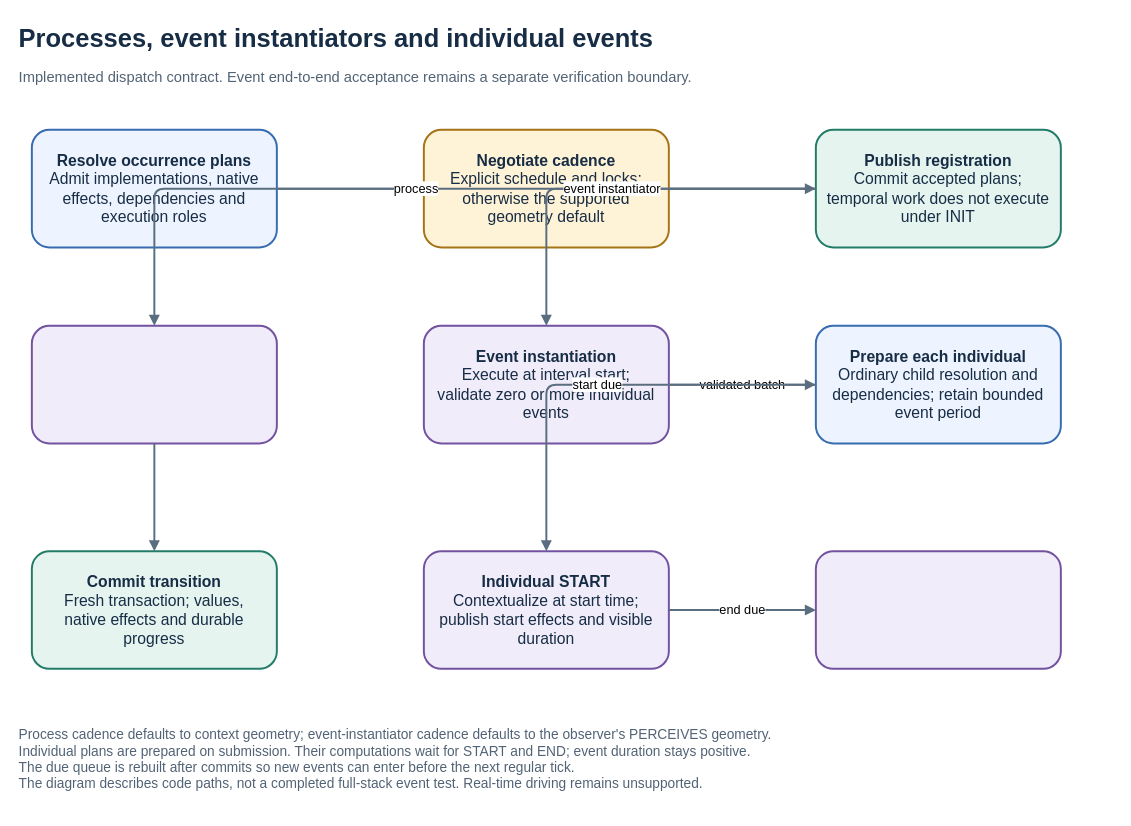
Image size: 1131x826. Some labels were removed from this diagram. Here are the shapes that lost their labels. From the top down, the centre of each, then its label:
At (x=153, y=384): "Process SIMULATION Execute at the end of each accepted interval".
At (x=937, y=609): "Individual END Contextualize at end time; publish end effects and completion".
